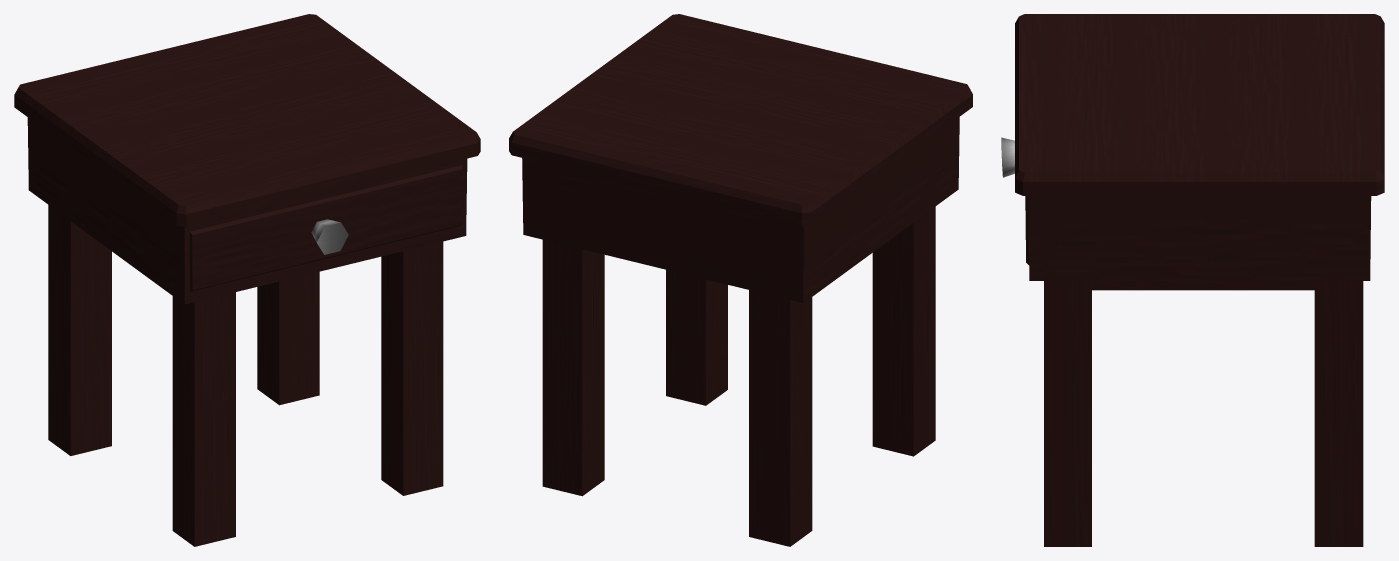
File: Basic_Endtable_H.FBX
3 views of the same model, side by side, from view 1: azimuth 30°, elevation 25°; view 2: azimuth 150°, elevation 25°; view 3: azimuth 270°, elevation 25° (orthographic). The views are drawn at different scales.
Parts seen in each view (by area): view 1: End Table; view 2: End Table; view 3: End Table.
Boxes of the visible parts, x1,y1,x2,y2 form: End Table: [14, 14, 480, 546]; End Table: [509, 14, 972, 546]; End Table: [1001, 14, 1384, 546].
Size of the model in its own units: 88.66 by 98.76 by 88.61.
